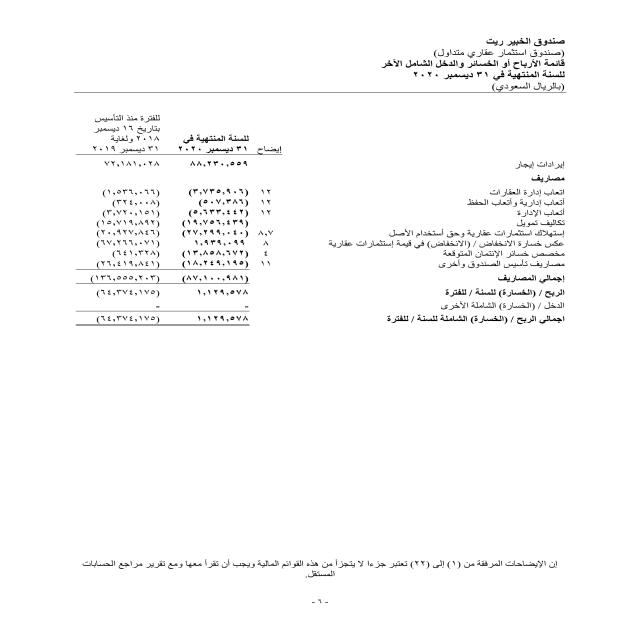financial_sheets: (349, 59, 571, 69)
table: (48, 101, 282, 322)
